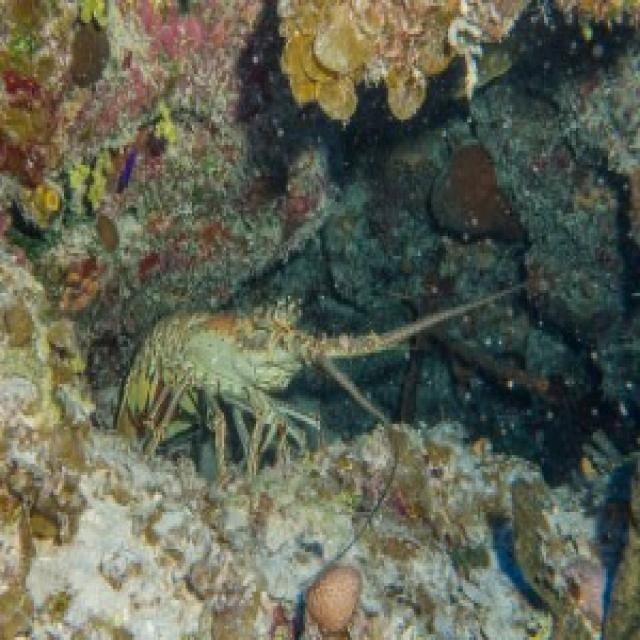lobsters: (92, 149, 520, 551)
